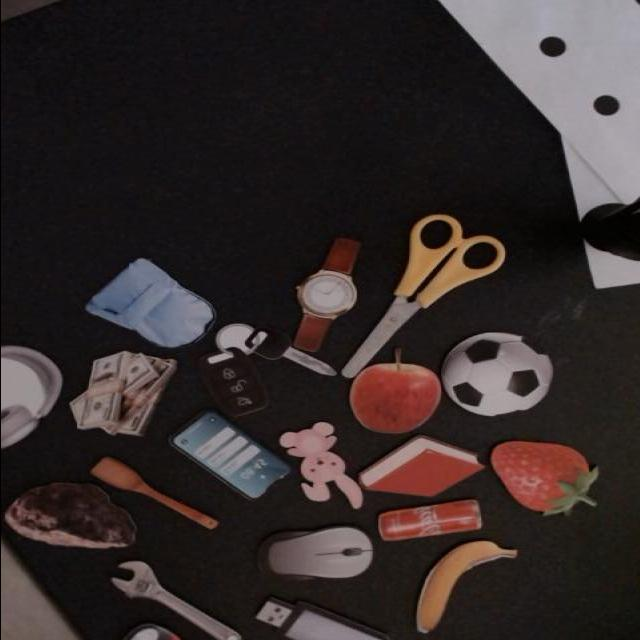Other Objects: (339, 213, 504, 378), (173, 301, 336, 420), (81, 251, 233, 358), (261, 234, 388, 355), (383, 526, 518, 634), (167, 409, 291, 499), (108, 560, 241, 639), (439, 331, 551, 418), (88, 456, 217, 529), (67, 350, 176, 436), (1, 481, 136, 549), (347, 347, 440, 433), (276, 421, 363, 509), (0, 345, 62, 447), (265, 526, 371, 577), (376, 498, 481, 540), (1, 1, 1, 1)
